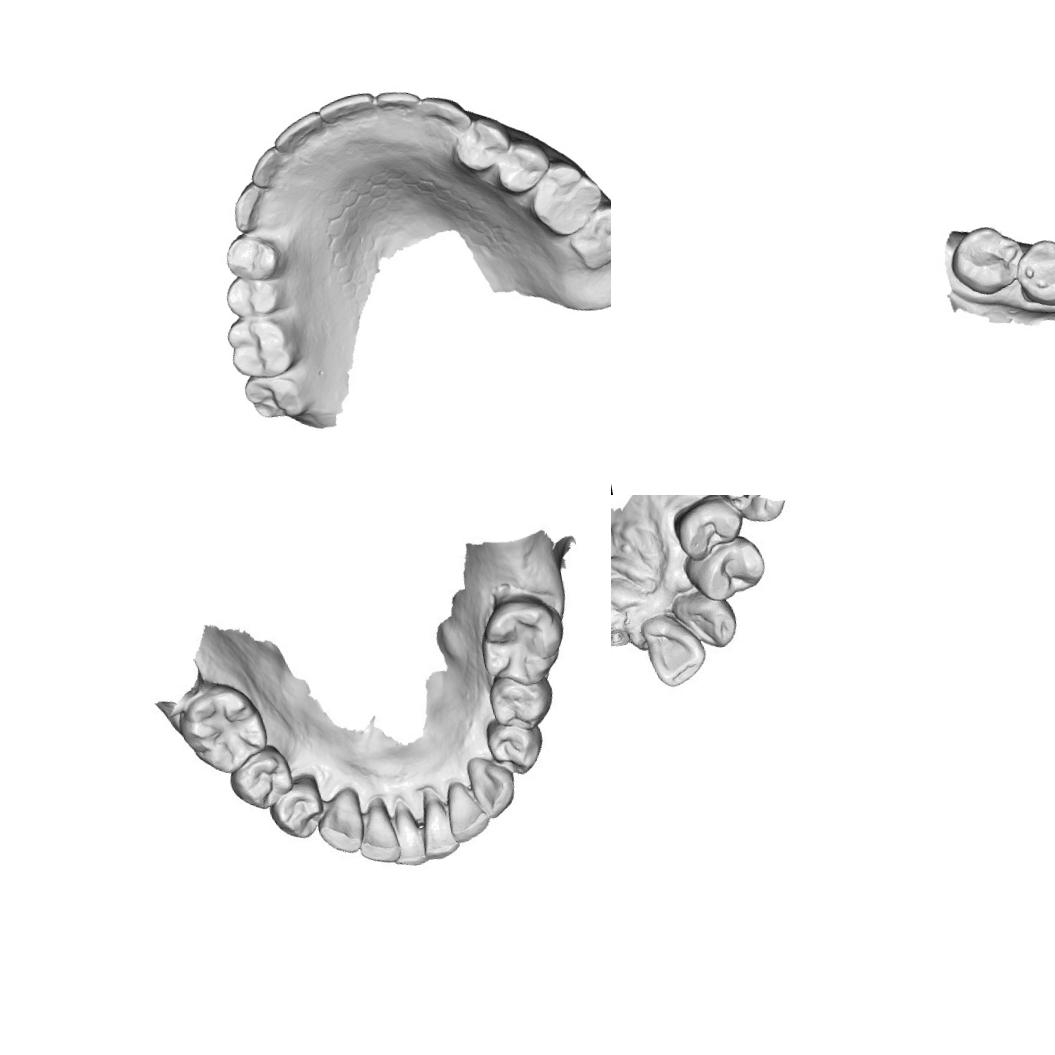canine: (678, 590, 741, 654), (218, 176, 284, 235), (418, 84, 472, 149), (466, 754, 520, 816), (314, 790, 366, 854)
incisor: (639, 612, 710, 690), (316, 76, 383, 140), (266, 101, 336, 162), (364, 70, 427, 132), (236, 134, 299, 196), (442, 781, 497, 844), (416, 791, 465, 856), (354, 794, 402, 860), (387, 798, 426, 860)
molar: (474, 591, 572, 693), (176, 676, 264, 775), (518, 156, 607, 240), (219, 304, 312, 382), (944, 219, 1030, 302), (238, 362, 320, 426), (1009, 232, 1055, 312), (561, 204, 611, 277)
premolar: (686, 540, 772, 602), (446, 110, 516, 182), (670, 495, 745, 558), (216, 223, 288, 285), (217, 268, 291, 328), (229, 747, 297, 812), (264, 771, 324, 844), (486, 668, 554, 732), (489, 137, 556, 200), (484, 716, 546, 776)
